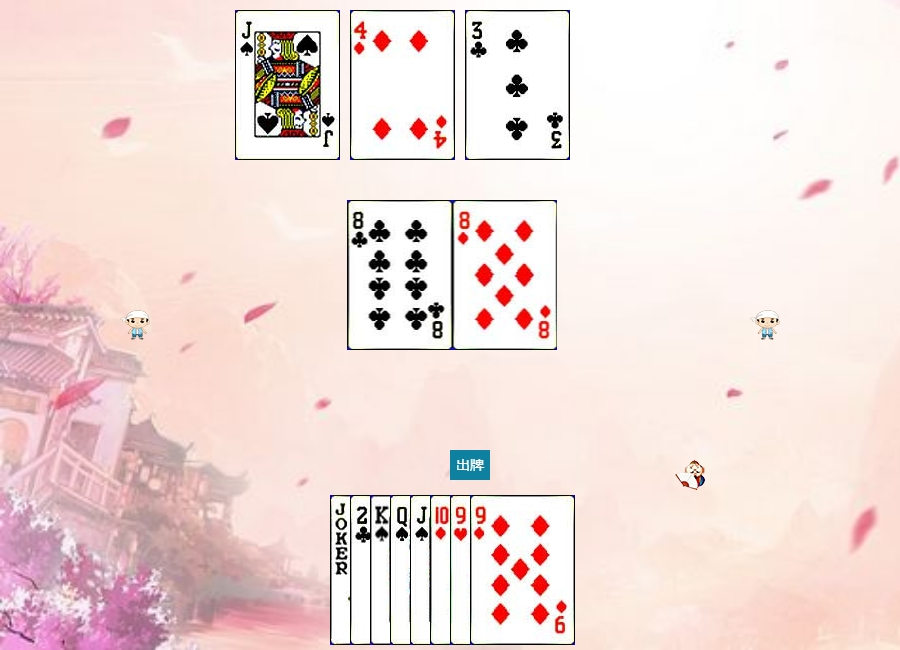10~1: (430, 495, 535, 645)
11~4: (235, 10, 340, 160), (410, 495, 515, 645)
12~4: (390, 495, 495, 645)
13~4: (370, 495, 475, 645)
15~2: (350, 495, 455, 645)
17~3: (330, 495, 435, 645)
3~2: (465, 10, 570, 160)
4~1: (350, 10, 455, 160)
8~1: (453, 200, 558, 350)
8~2: (348, 200, 453, 350)
9~1: (470, 495, 575, 645)
9~3: (450, 495, 555, 645)
